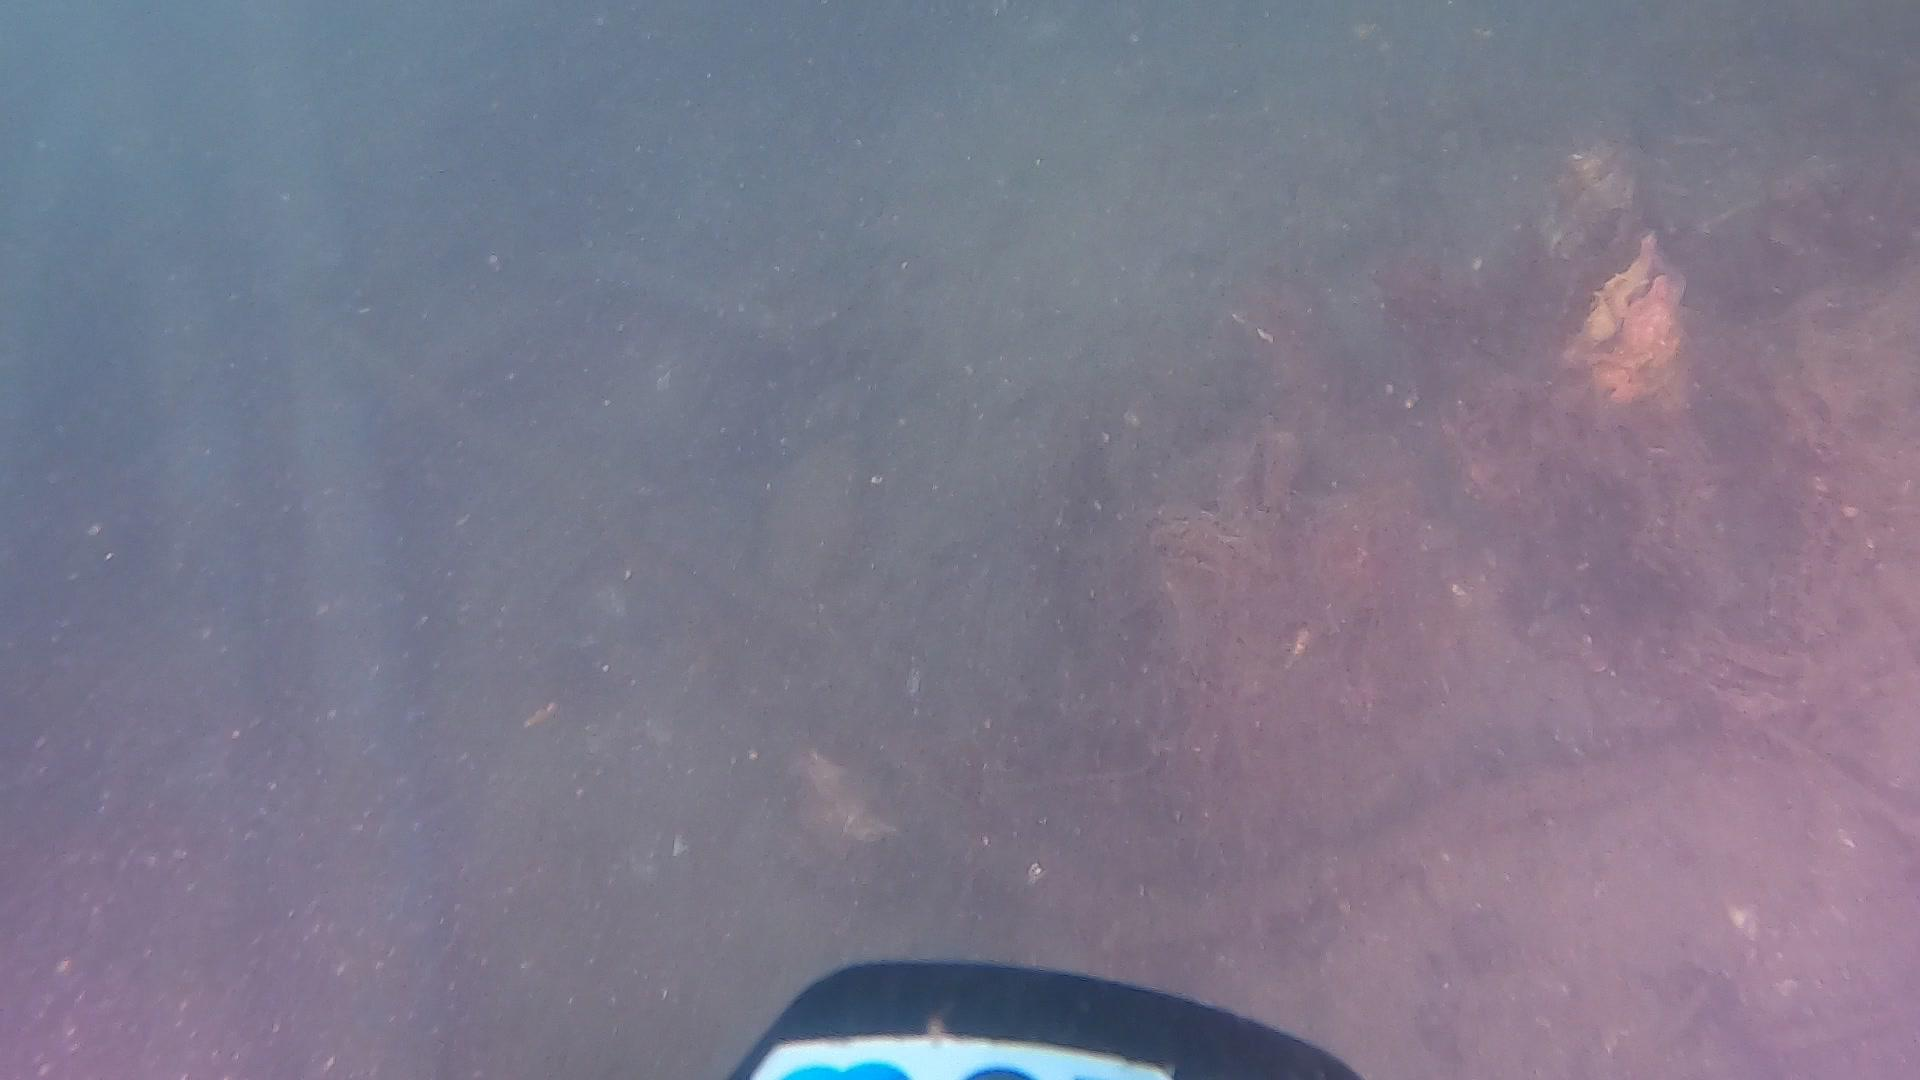rope: (276, 298, 1722, 944)
